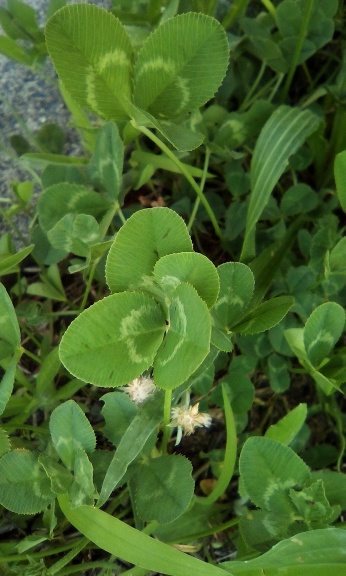4leaf: (55, 205, 222, 391)
